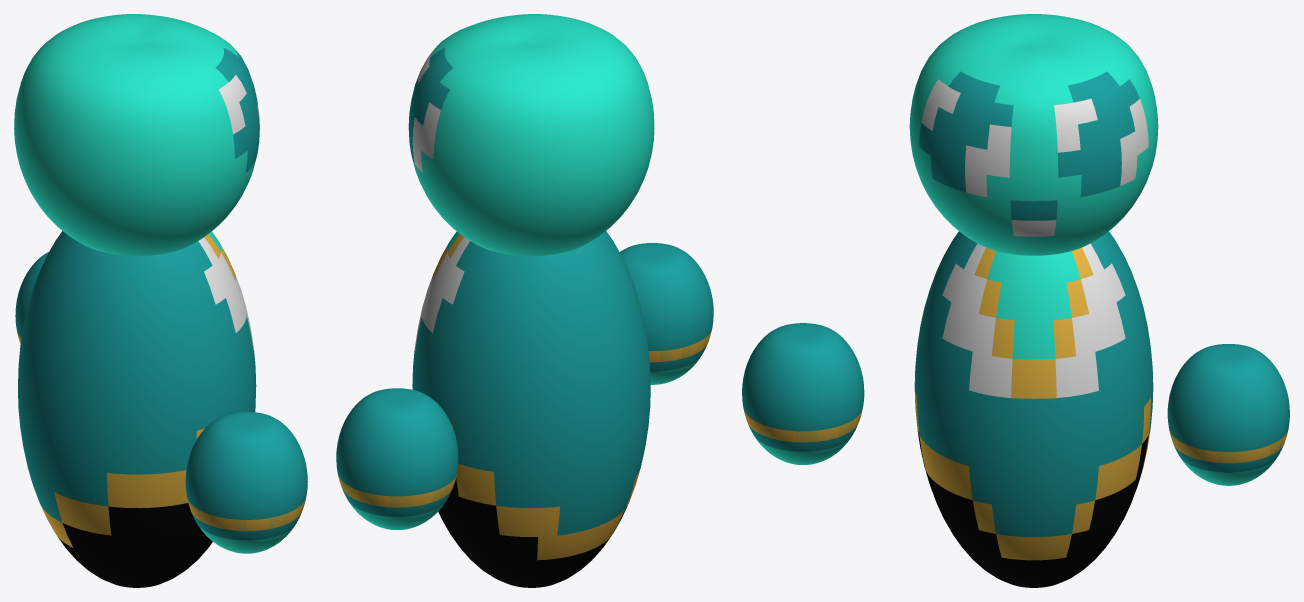
File: influencingblue.fbx
The picture shows the model from 3 angles, left to right: view 1: azimuth 30°, elevation 25°; view 2: azimuth 150°, elevation 25°; view 3: azimuth 270°, elevation 25°; orthographic projection.
Visible parts, largest first — view 1: Body, Head, Arm 1, Arm 2; view 2: Body, Head, Arm 2, Arm 1; view 3: Body, Head, Arm 2, Arm 1.
Boxes of the visible parts, x1,y1,x2,y2 form: Body: [18, 231, 256, 587]; Head: [14, 14, 259, 256]; Arm 1: [185, 411, 307, 553]; Arm 2: [15, 252, 48, 343]; Body: [412, 231, 650, 587]; Head: [408, 14, 654, 256]; Arm 2: [336, 388, 458, 529]; Arm 1: [620, 243, 713, 384]; Body: [914, 231, 1153, 587]; Head: [909, 14, 1158, 255]; Arm 2: [1167, 344, 1289, 485]; Arm 1: [742, 323, 864, 464].
Size of the model in its own units: 203 by 497 by 453.
